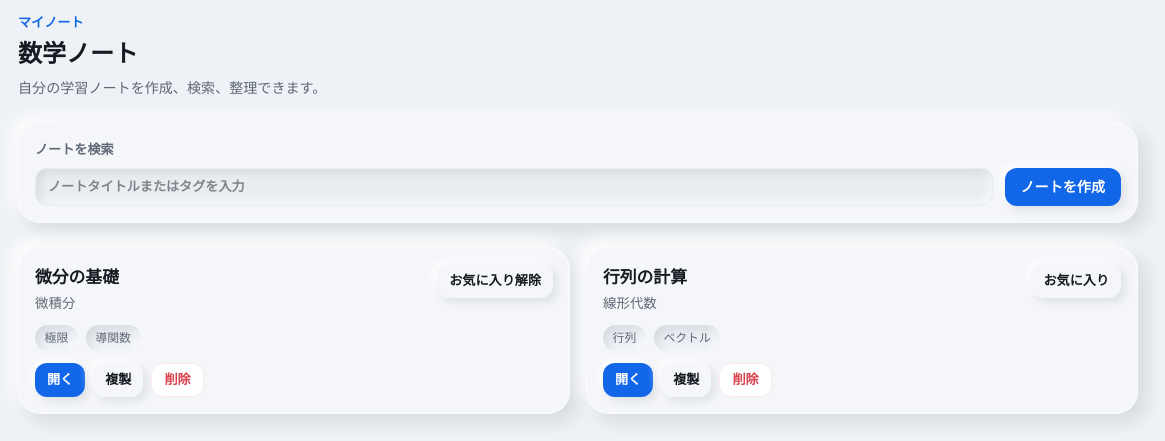
Test case: NotesListView › 検索入力で一覧を絞り込む
Type "行列" into the field with test id "note-search". click: (514, 187)
box: [35,168,992,206]
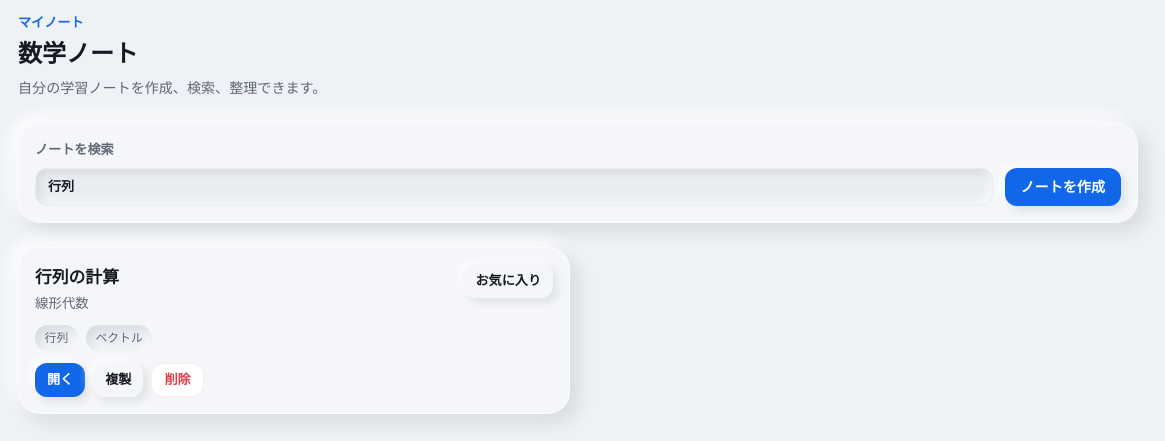
Expected: the text "行列の計算" is shown, [35,264,119,289]
Now the text "微分の基礎" is gone
